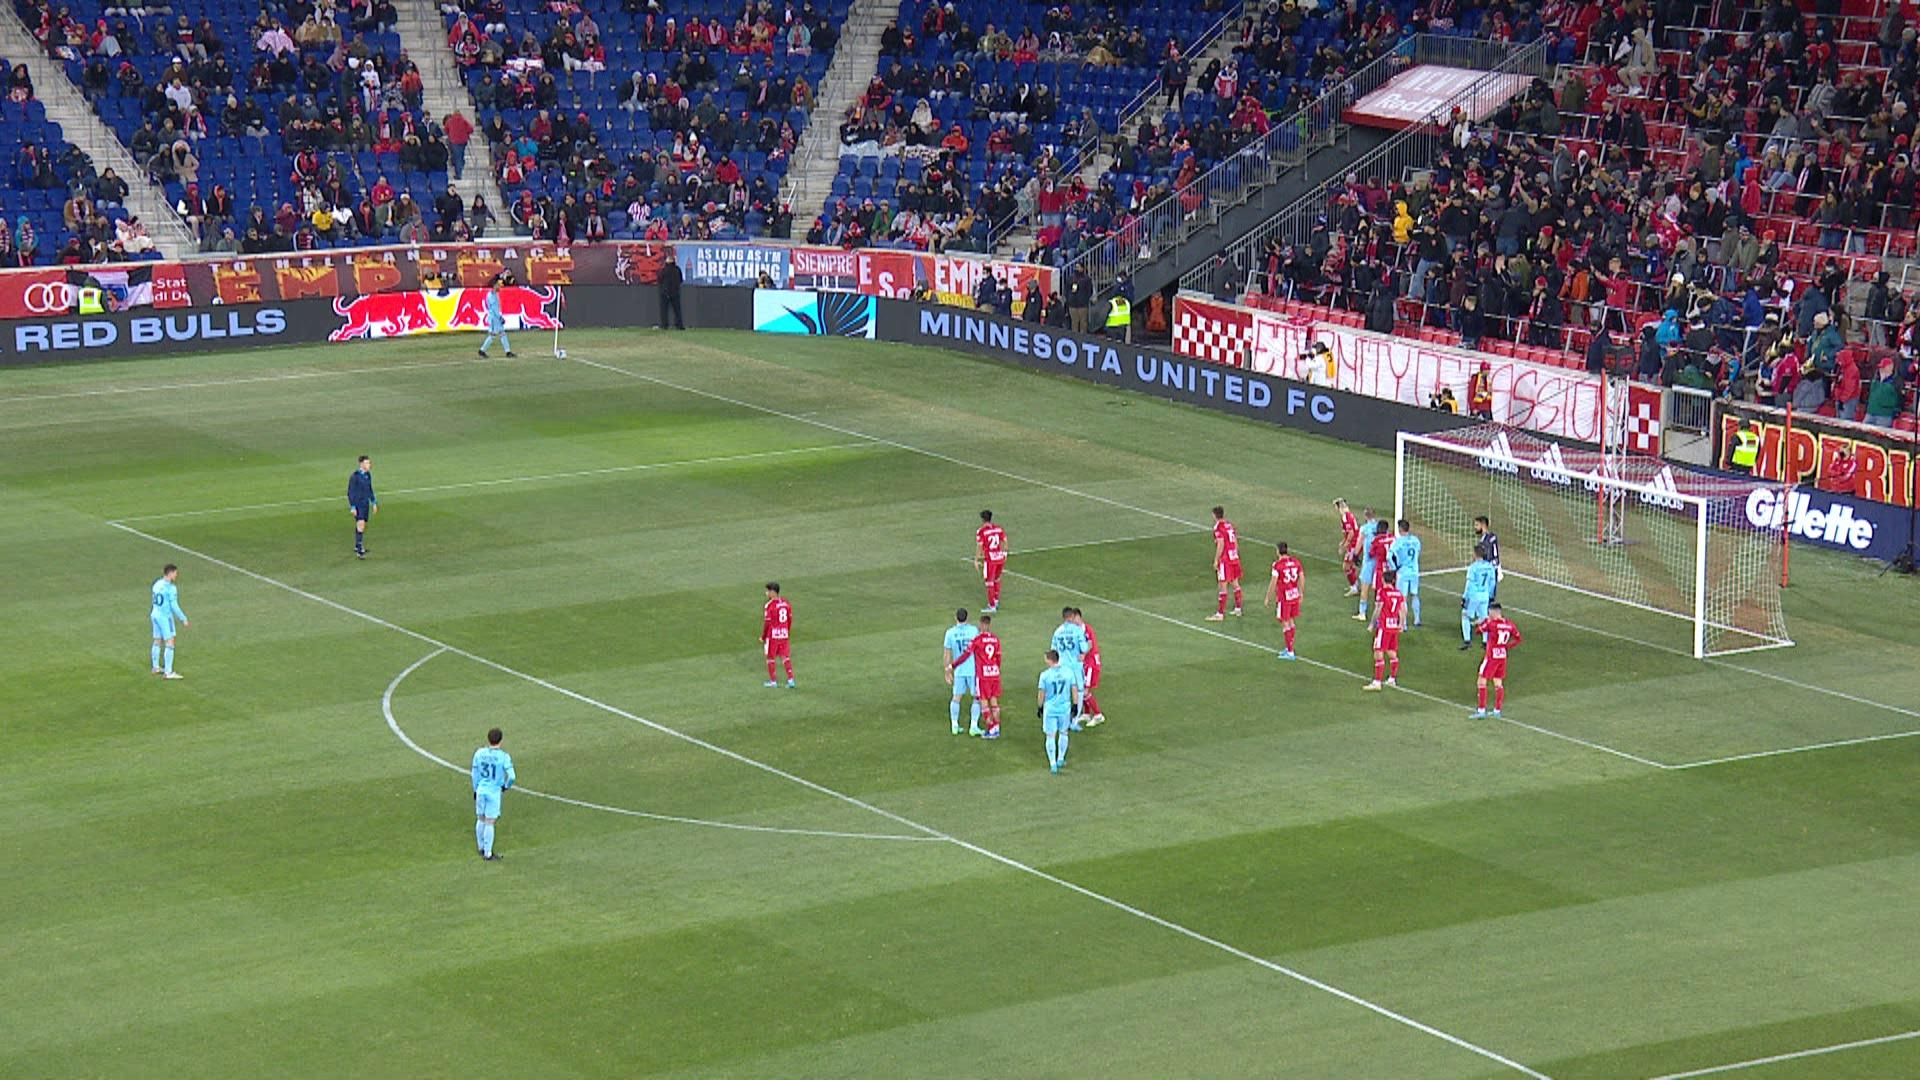football: (555, 349, 567, 359)
